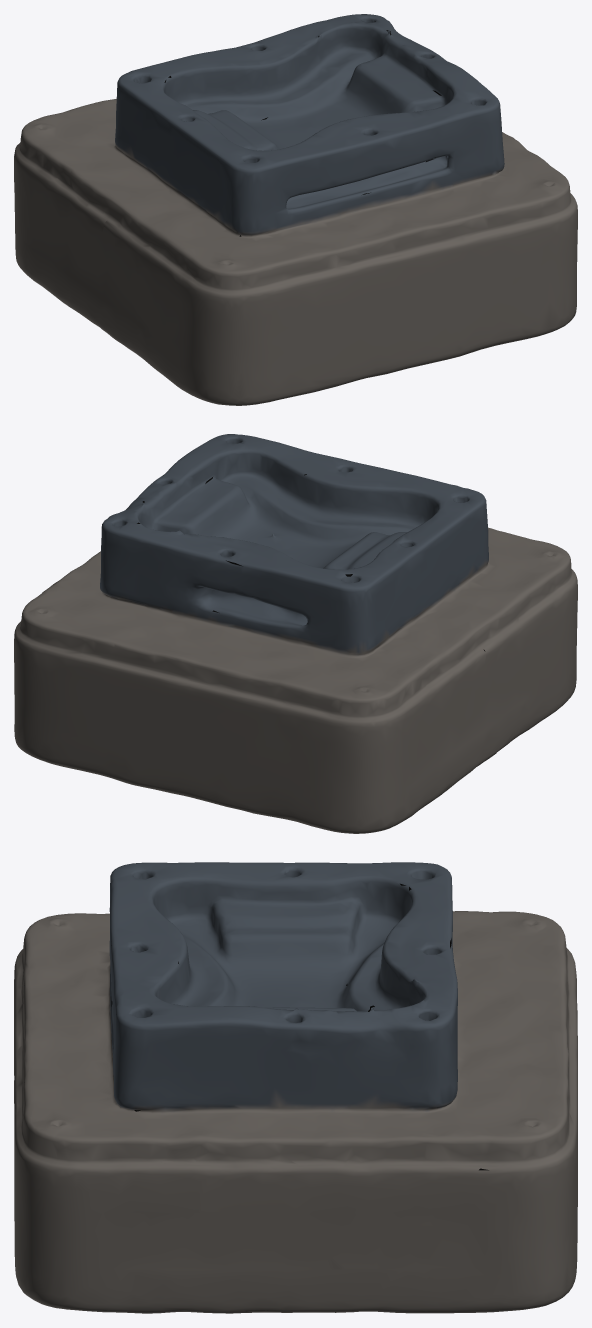
File: mold-prep.glb
The picture shows the model from 3 angles, top to bottom: view 1: azimuth 30°, elevation 25°; view 2: azimuth 150°, elevation 25°; view 3: azimuth 270°, elevation 25°; orthographic projection. The views are drawn at different scales.
Visible parts, largest first — view 1: tmpwvbsk1a_.ply; view 2: tmpwvbsk1a_.ply; view 3: tmpwvbsk1a_.ply.
Part boxes in pixels (x1,y1,x2,y2): tmpwvbsk1a_.ply: (14, 14, 577, 405); tmpwvbsk1a_.ply: (14, 434, 577, 833); tmpwvbsk1a_.ply: (14, 862, 577, 1313).
Bounding box in the file's own units: 1.96 × 1.04 × 1.96.
Materials: 1 (1 with a texture image).
